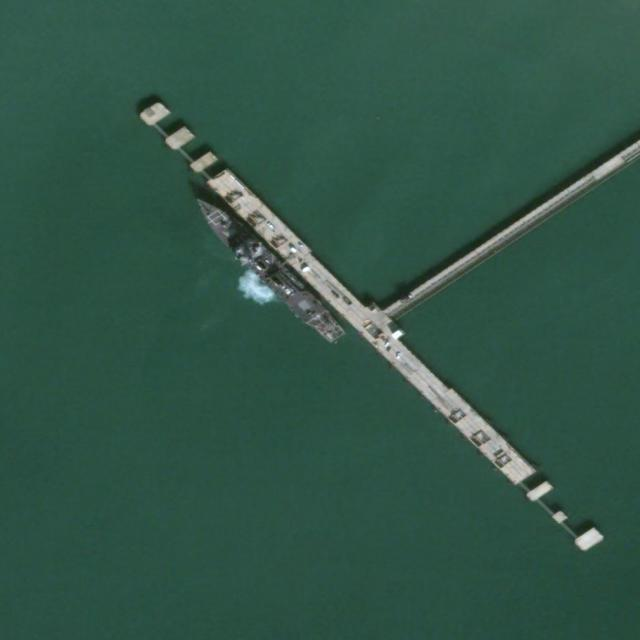Destroyer: (189, 190, 346, 347)
Dock: (135, 94, 610, 557)
